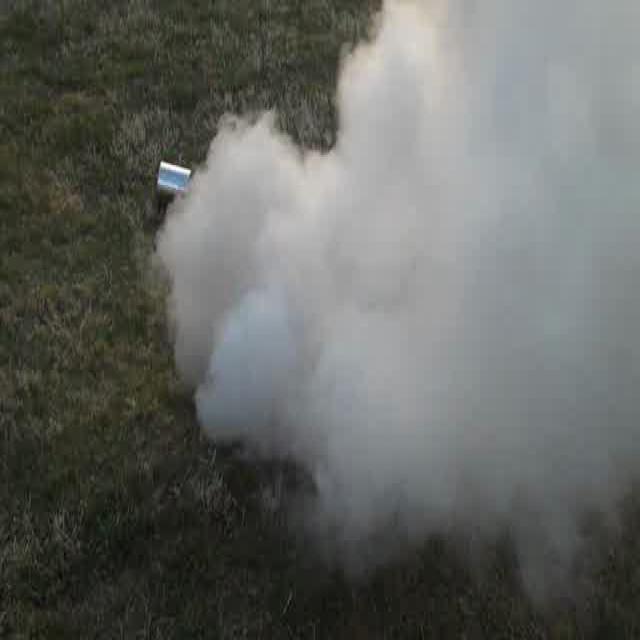Smoke: (201, 5, 640, 502)
